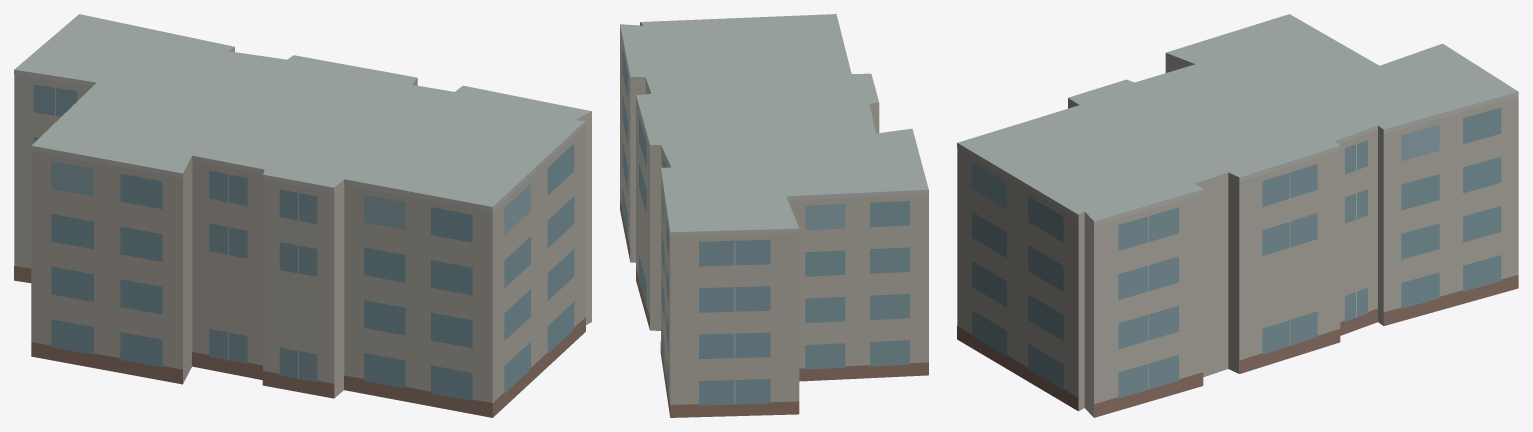
The model's file is survey-upis-32654359.glb.
The picture shows the model from 3 angles, left to right: view 1: azimuth 30°, elevation 25°; view 2: azimuth 150°, elevation 25°; view 3: azimuth 270°, elevation 25°; orthographic projection. The views are drawn at different scales.
Visible parts, largest first — view 1: survey-upis-32654359.tmp; view 2: survey-upis-32654359.tmp; view 3: survey-upis-32654359.tmp.
Boxes of the visible parts, x1,y1,x2,y2 form: survey-upis-32654359.tmp: [14, 14, 591, 417]; survey-upis-32654359.tmp: [620, 14, 928, 417]; survey-upis-32654359.tmp: [957, 14, 1518, 417].
Size of the model in its own units: 23.97 by 10.6 by 27.44.
